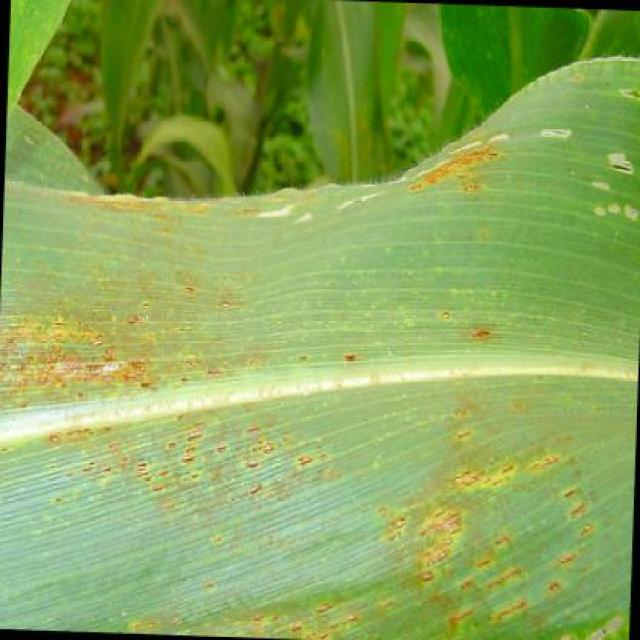Corn_Rust: (9, 122, 617, 629)
